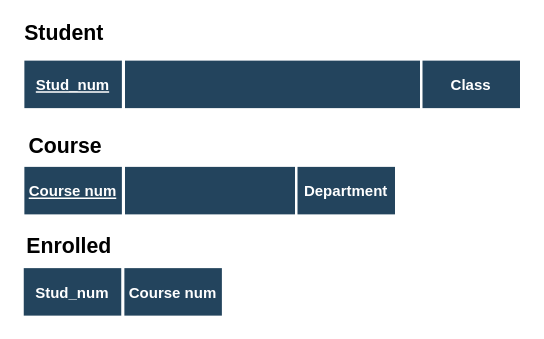
The diagram is 544 pixels wide and 339 high, and some of its shapes have lost their labels. The shapes that lost their labels are listed below. From the top down, each one's centre as x and y in pixels, then its label:
the point at 272,84: Student name
the point at 212,190: Course name
